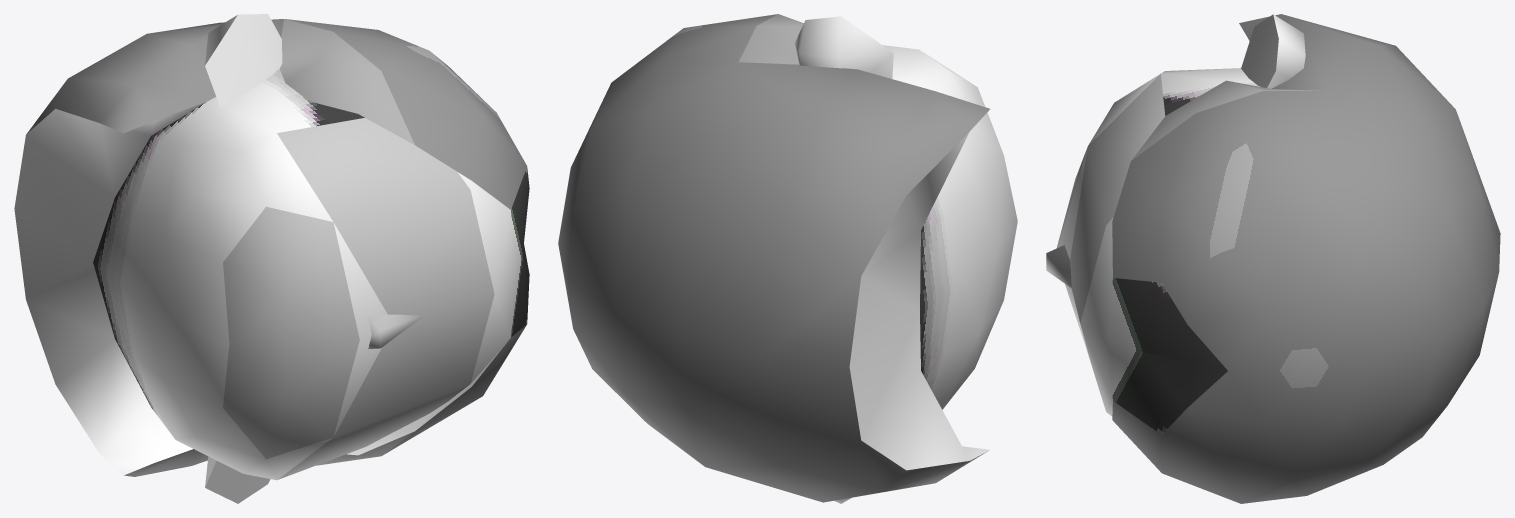
Rendered from girl15a.dae.
The picture shows the model from 3 angles, left to right: view 1: azimuth 30°, elevation 25°; view 2: azimuth 150°, elevation 25°; view 3: azimuth 270°, elevation 25°; orthographic projection. The views are drawn at different scales.
Parts seen in each view (by area): view 1: vsn_mesh_2_, vsn_mesh_1_, vsn_mesh_0_; view 2: vsn_mesh_2_; view 3: vsn_mesh_2_, vsn_mesh_1_.
Boxes of the visible parts, x1,y1,x2,y2 form: vsn_mesh_2_: [14, 14, 529, 503]; vsn_mesh_1_: [277, 118, 494, 479]; vsn_mesh_0_: [223, 206, 359, 458]; vsn_mesh_2_: [558, 14, 1017, 503]; vsn_mesh_2_: [1057, 14, 1500, 503]; vsn_mesh_1_: [1046, 74, 1165, 404].
Bounding box in the file's own units: 22.32 × 26.71 × 23.3.
